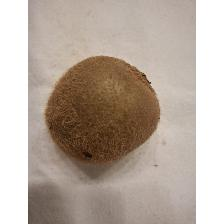Kiwi: (42, 52, 163, 168)
